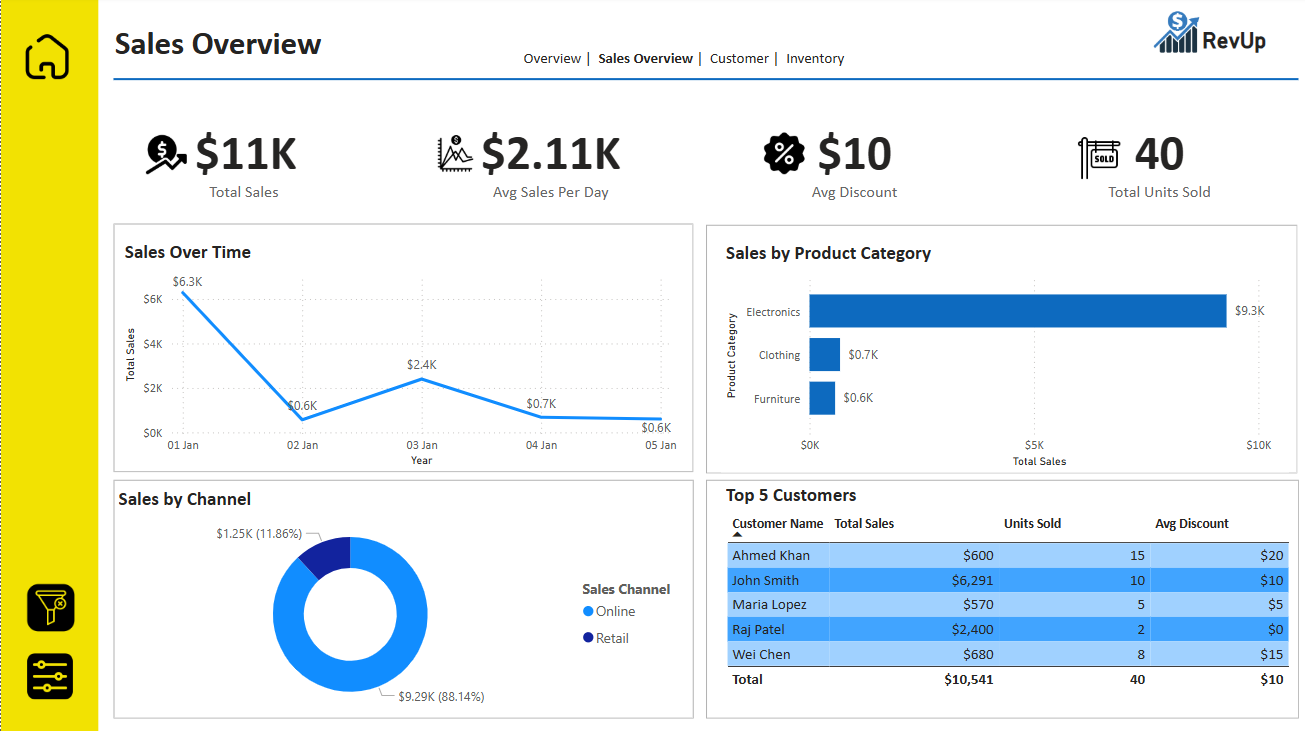

Layout of this report page (visuals, bound fields, positions):
{"tool":"powerbi","page":{"name":"Sales Overview","canvas":[1280,720],"ordinal":2},"visuals":[{"type":"image","box":[1016.8,0,264.1,70.9],"z":0,"group":"g1"},{"type":"image","box":[20.9,23.7,52.9,58.4],"z":0},{"type":"textbox","box":[1169.7,25.7,99,45.2],"z":1000,"group":"g1"},{"type":"textbox","box":[506.4,45.9,340.9,34.8],"z":1000},{"type":"shape","box":[0,0,95.4,720.2],"z":2000},{"type":"textbox","box":[105.5,21.7,283.4,49.2],"z":2000,"group":"g1"},{"type":"shape","box":[759.7,32,79.3,50.1],"z":3000},{"type":"shape","box":[109.5,58.7,1159.2,45.2],"z":3000,"group":"g1"},{"type":"shape","box":[688.7,39,71,41.7],"z":4000},{"type":"card","fields":{"Values":["Sales Data.Total Sales Measure"]},"box":[122.9,103.9,232.3,110.1],"z":4000,"group":"g1"},{"type":"shape","box":[496.7,39,79.3,41.7],"z":5000},{"type":"image","box":[136.3,103.9,50.1,100.3],"z":5000,"group":"g1"},{"type":"card","fields":{"Values":["Sales Data.Avg Sales Per Day"]},"box":[420.9,103.9,232.3,110.1],"z":6000,"group":"g1"},{"type":"image","box":[18.1,638.6,58.4,54.3],"z":6000},{"type":"group","id":"g1","title":"Visuals","box":[19,0,1261.9,706.8],"z":7000},{"type":"card","fields":{"Values":["Sales Data.Avg Discount"]},"box":[718.8,103.9,232.3,110.1],"z":7000,"group":"g1"},{"type":"card","fields":{"Values":["Sum(Sales Data.Units Sold)"]},"box":[1016.8,103.9,232.3,110.1],"z":8000,"group":"g1"},{"type":"image","box":[18.8,28.9,53.5,59.3],"z":9000},{"type":"image","box":[1042.3,95.2,62.3,126.4],"z":9000,"group":"g1"},{"type":"lineChart","title":"Sales Over Time","fields":{"Y":["Sum(Sales Data.Total Sales)"],"Category":["Sales Data.Date.Variation.Date Hierarchy.Year","Sales Data.Date.Variation.Date Hierarchy.Month","Sales Data.Date.Variation.Date Hierarchy.Day"]},"box":[115.6,238.5,550.3,227.4],"z":10000,"group":"g1"},{"type":"shape","box":[109.5,222.6,567.4,243.3],"z":11000,"group":"g1"},{"type":"shape","box":[689.3,224,578.8,243.5],"z":12000,"group":"g1"},{"type":"barChart","title":"Sales by Product Category","fields":{"Y":["Sum(Sales Data.Total Sales)"],"Category":["Sales Data.Product Category"]},"box":[703.2,239.3,555.1,226.8],"z":13000,"group":"g1"},{"type":"image","box":[418.9,103.9,50.2,100.4],"z":14000,"group":"g1"},{"type":"image","box":[741,103.9,50.2,100.4],"z":15000,"group":"g1"},{"type":"donutChart","title":"Sales by Channel","fields":{"Category":["Sales Data.Sales Channel"],"Y":["Sum(Sales Data.Total Sales)"]},"box":[109.2,480,567.7,226.8],"z":16000,"group":"g1"},{"type":"shape","box":[109.2,473,567.7,233.7],"z":17000,"group":"g1"},{"type":"image","box":[19,559.3,58.9,79.7],"z":18000,"group":"g1"},{"type":"tableEx","title":"Top 5 Customers","fields":{"Values":["Customer Data.Customer Name","Sum(Sales Data.Total Sales)","Sum(Sales Data.Units Sold)","Sales Data.Avg Discount"]},"box":[703.2,477.2,567.7,226.8],"z":19000,"group":"g1"},{"type":"shape","box":[689.3,473,580.2,233.7],"z":20000,"group":"g1"}]}

Visuals, with their boxes in screenshot pixels (x1, y1, x2, y2), scaled from the page's 1280x720 canvas onto the 1305x731 screenshot:
image: bbox=[1037, 0, 1304, 72]
image: bbox=[21, 24, 75, 83]
textbox: bbox=[1193, 26, 1293, 72]
textbox: bbox=[516, 47, 864, 82]
shape: bbox=[0, 0, 97, 730]
textbox: bbox=[108, 22, 396, 72]
shape: bbox=[775, 32, 855, 83]
shape: bbox=[112, 60, 1293, 105]
shape: bbox=[702, 40, 775, 82]
card - Sales Data.Total Sales Measure: bbox=[125, 105, 362, 217]
shape: bbox=[506, 40, 587, 82]
image: bbox=[139, 105, 190, 207]
card - Sales Data.Avg Sales Per Day: bbox=[429, 105, 666, 217]
image: bbox=[18, 648, 78, 703]
"Visuals" group: bbox=[19, 0, 1304, 718]
card - Sales Data.Avg Discount: bbox=[733, 105, 970, 217]
card - Sum(Sales Data.Units Sold): bbox=[1037, 105, 1273, 217]
image: bbox=[19, 29, 74, 90]
image: bbox=[1063, 97, 1126, 225]
"Sales Over Time" lineChart: bbox=[118, 242, 679, 473]
shape: bbox=[112, 226, 690, 473]
shape: bbox=[703, 227, 1293, 475]
"Sales by Product Category" barChart: bbox=[717, 243, 1283, 473]
image: bbox=[427, 105, 478, 207]
image: bbox=[755, 105, 807, 207]
"Sales by Channel" donutChart: bbox=[111, 487, 690, 718]
shape: bbox=[111, 480, 690, 717]
image: bbox=[19, 568, 79, 649]
"Top 5 Customers" tableEx: bbox=[717, 484, 1296, 715]
shape: bbox=[703, 480, 1294, 717]
